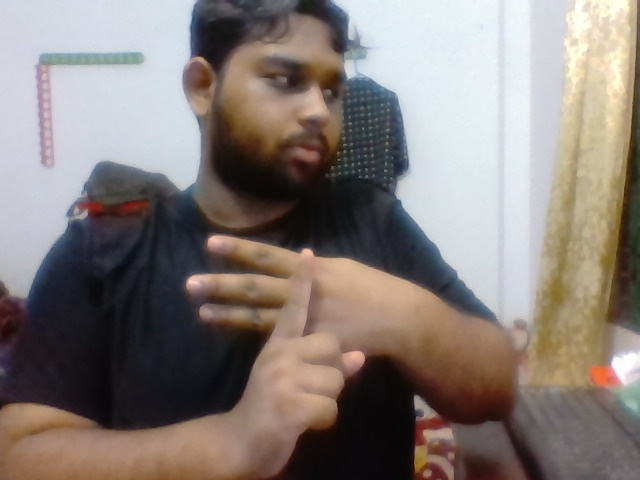E: (173, 223, 386, 467)
